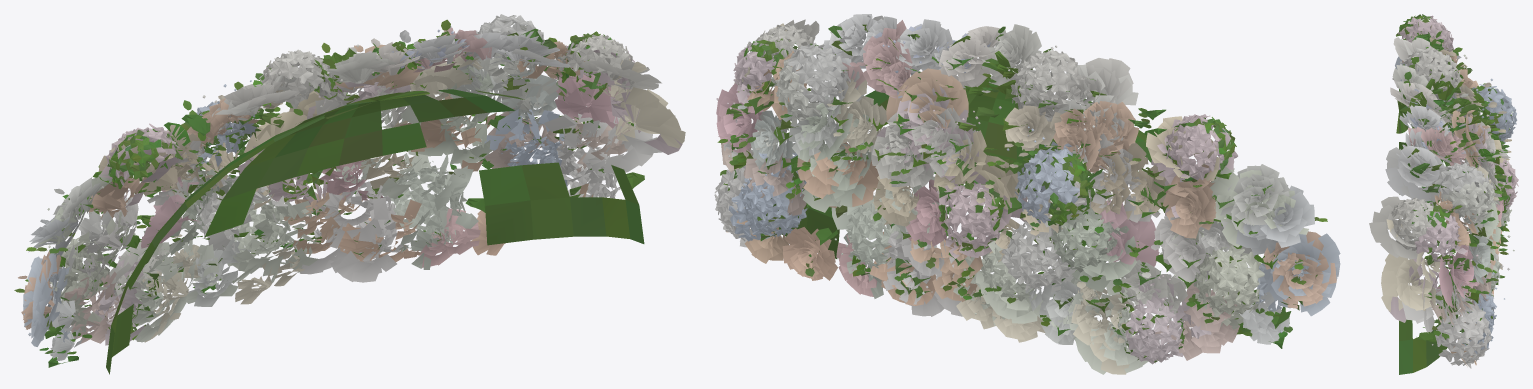
The model's file is vr27n_D_bank_bright.glb.
3 renders of one model, left to right at view 1: azimuth 30°, elevation 25°; view 2: azimuth 150°, elevation 25°; view 3: azimuth 270°, elevation 25°, orthographic. The views are drawn at different scales.
Visible parts, largest first — view 1: petals; view 2: petals; view 3: petals.
Boxes of the visible parts, left/top/right/bottom form: petals: left=14, top=14, right=685, bottom=374; petals: left=714, top=14, right=1340, bottom=374; petals: left=1369, top=14, right=1518, bottom=374.
Size of the model in its own units: 0.0235 by 0.0101 by 0.00602.
